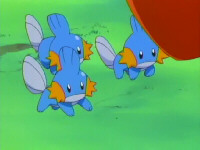mudkip: (21, 47, 97, 115), (97, 14, 170, 81), (23, 13, 94, 76)
